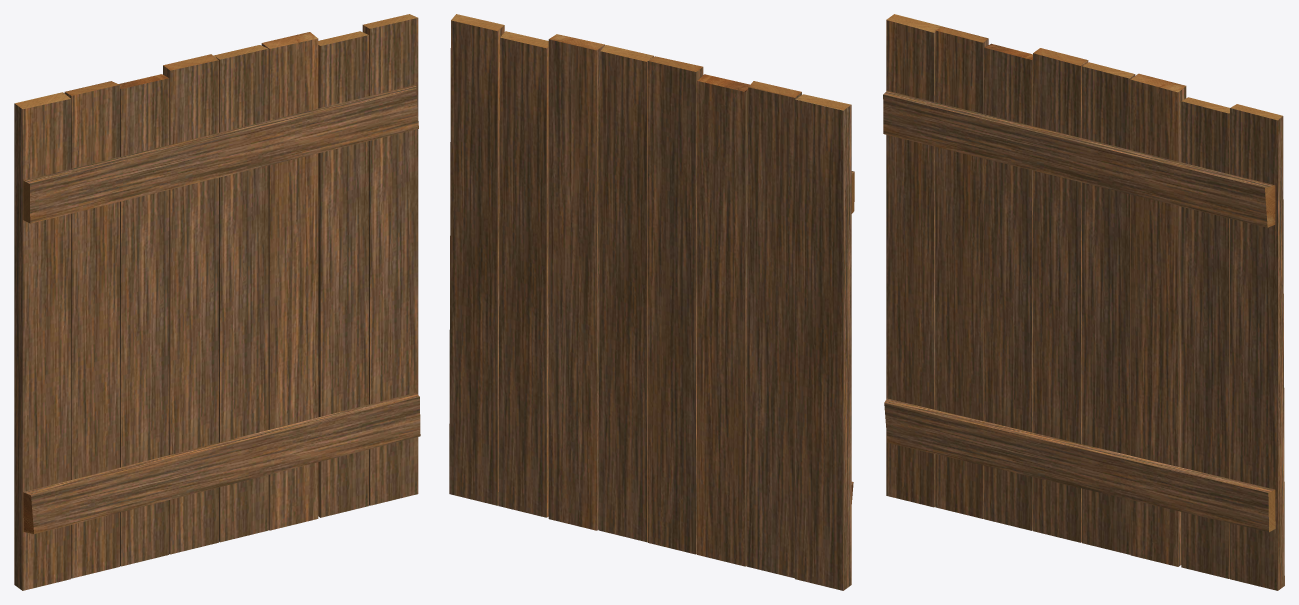
The model's file is fence_wooden2.fbx.
The picture shows the model from 3 angles, left to right: view 1: azimuth 30°, elevation 25°; view 2: azimuth 150°, elevation 25°; view 3: azimuth 330°, elevation 25°; orthographic projection.
Parts seen in each view (by area): view 1: polySurface410; view 2: polySurface410; view 3: polySurface410.
Part boxes in pixels (left/top/right/bottom): polySurface410: left=14, top=14, right=420, bottom=590; polySurface410: left=449, top=14, right=854, bottom=590; polySurface410: left=883, top=14, right=1284, bottom=590.
Bounding box in the file's own units: 2.23 × 2.61 × 0.1308.
